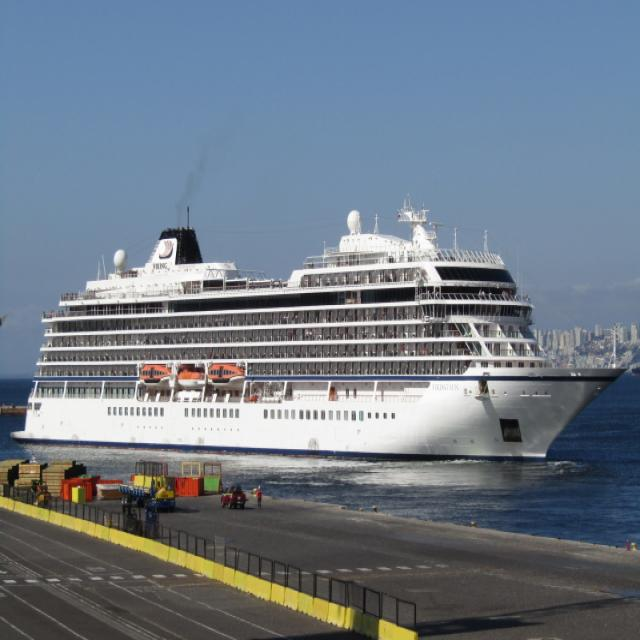cruises: (8, 196, 630, 468)
